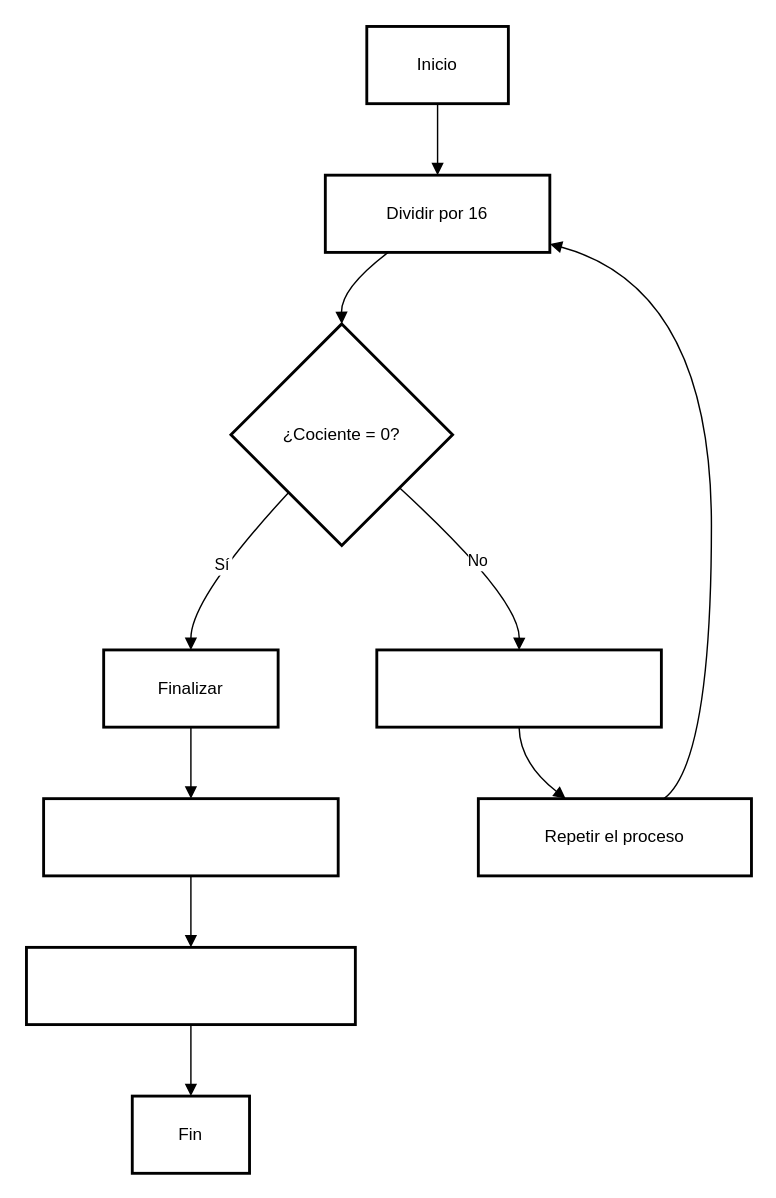
Some shapes in this 776 by 1198 pixel diagram are drawn without their labels. The box of each missing label's shape, as (x1, y1, x2, y2) in pixels:
Hexadecimal resultante: (24, 945, 356, 1025)
Ordenar los residuos: (41, 797, 339, 877)
Registrar el residuo: (375, 648, 662, 728)
